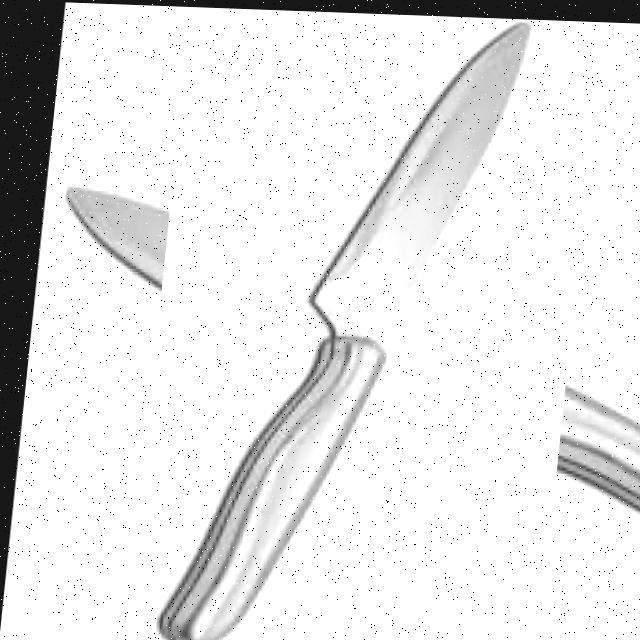knife: (158, 8, 533, 640)
